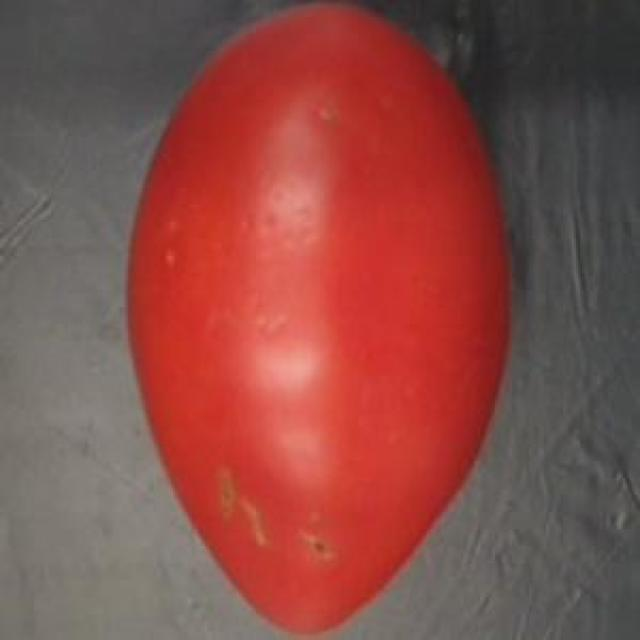ripe tomato: (107, 0, 533, 640)
